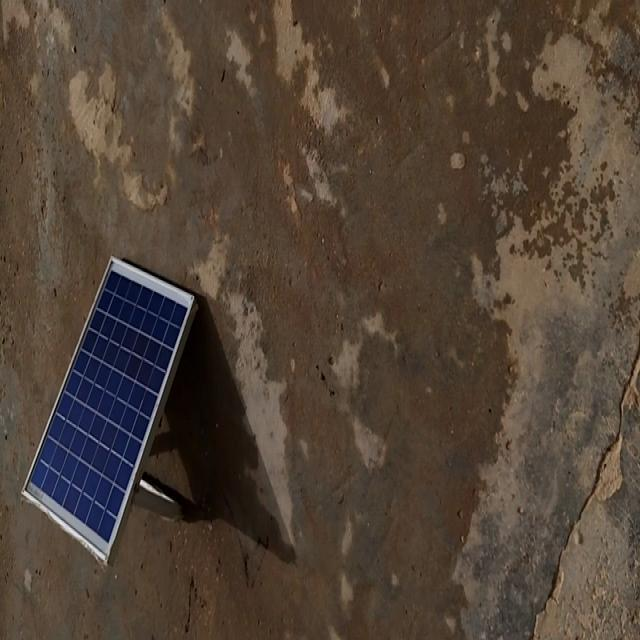Normal Solar Panel: (21, 257, 195, 564)
